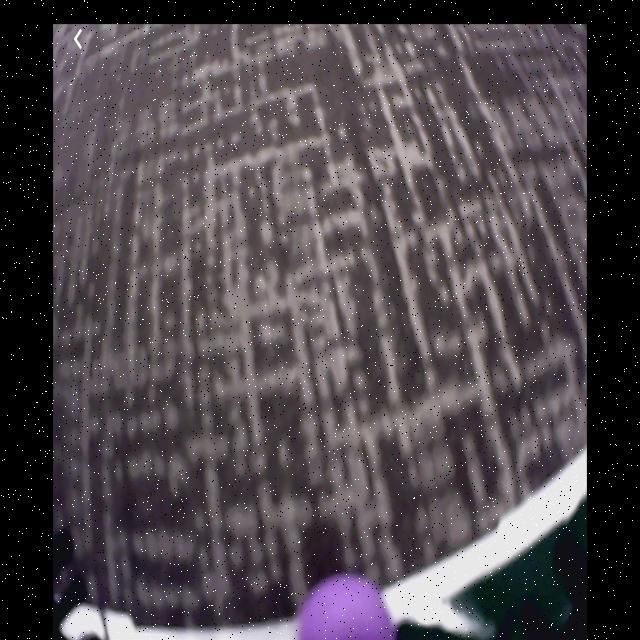ball: (297, 574, 399, 640)
